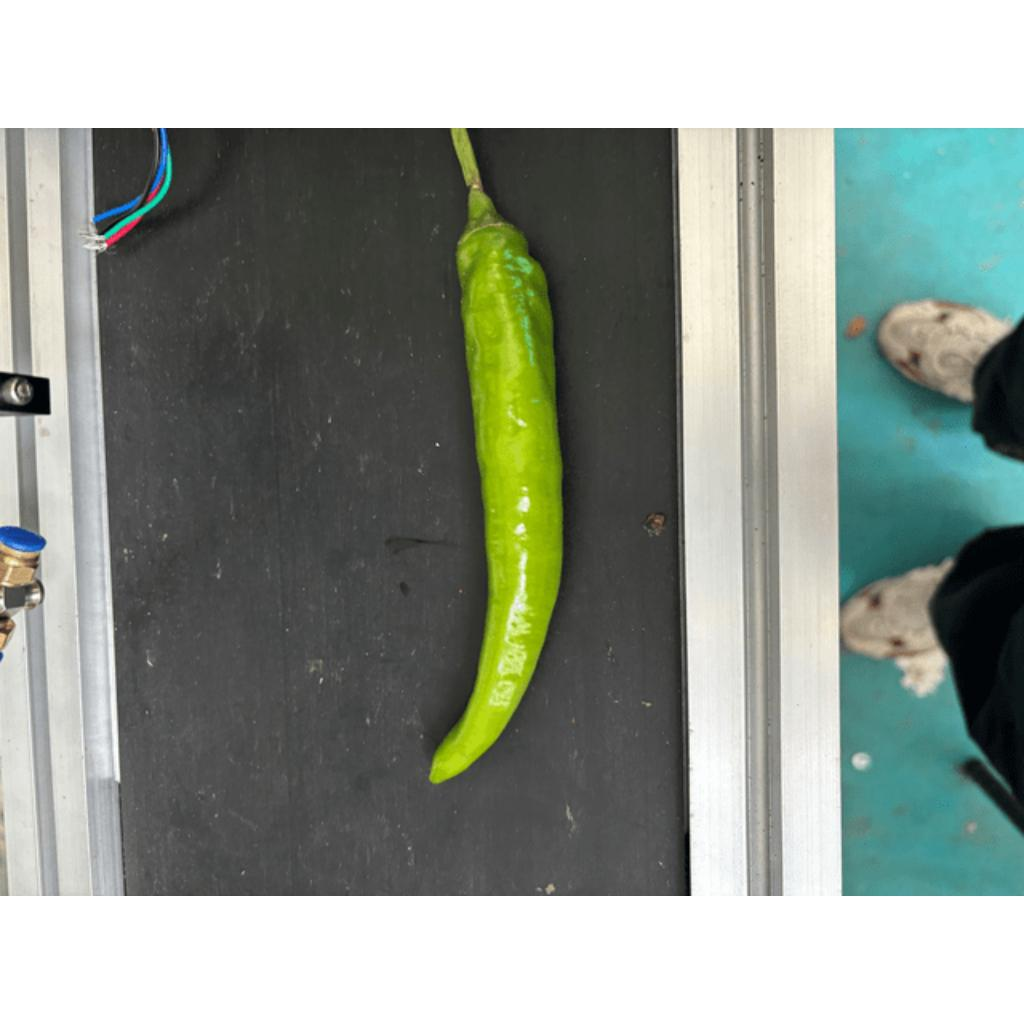chili: (429, 213, 567, 789)
